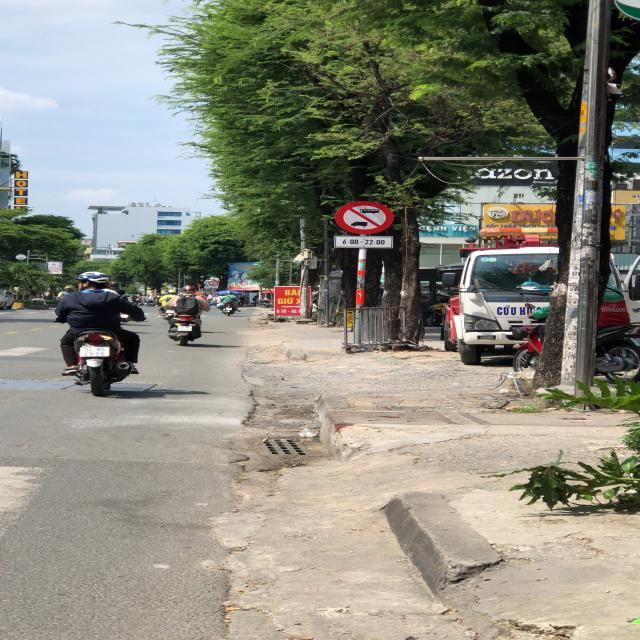Bien bao cam xe oto khach va xe oto tai: (331, 198, 397, 236)
